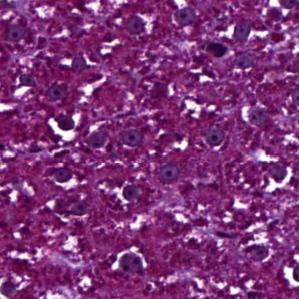inflammation: (262, 163, 297, 195), (46, 115, 81, 143), (110, 247, 150, 270)
